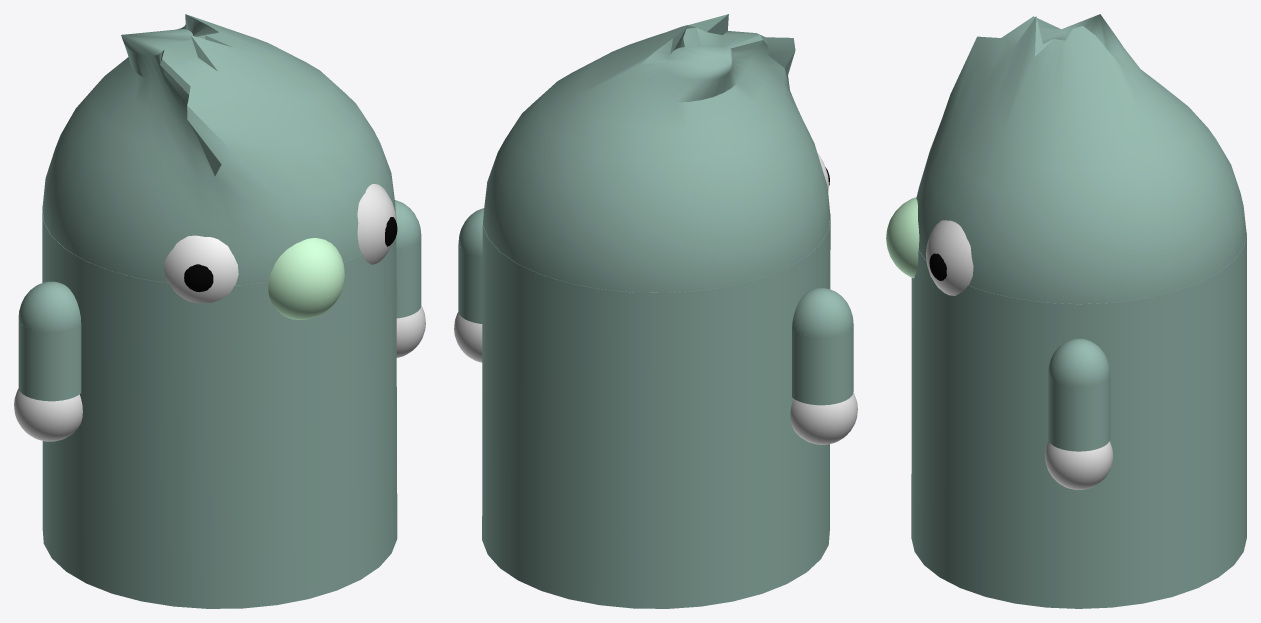
The model's file is Hynie .fbx.
3 renders of one model, left to right at view 1: azimuth 30°, elevation 25°; view 2: azimuth 150°, elevation 25°; view 3: azimuth 270°, elevation 25°, orthographic. The views are drawn at different scales.
Parts seen in each view (by area): view 1: Sphere, Sphere.004, Sphere.009, Sphere.001, Sphere.003, Sphere.006, Sphere.002, Sphere.005, Sphere.008; view 2: Sphere, Sphere.004, Sphere.003, Sphere.006, Sphere.005; view 3: Sphere, Sphere.003, Sphere.002, Sphere.005, Sphere.009.
Part boxes in pixels (x1,y1,x2,y2): Sphere: (42, 14, 397, 608); Sphere.004: (18, 281, 81, 401); Sphere.009: (268, 238, 344, 319); Sphere.001: (164, 235, 238, 303); Sphere.003: (395, 200, 421, 318); Sphere.006: (14, 388, 82, 441); Sphere.002: (357, 184, 396, 264); Sphere.005: (396, 306, 425, 357); Sphere.008: (184, 264, 213, 291); Sphere: (482, 14, 830, 608); Sphere.004: (792, 288, 853, 405); Sphere.003: (458, 208, 483, 323); Sphere.006: (790, 393, 857, 444); Sphere.005: (454, 312, 482, 362); Sphere: (911, 14, 1246, 608); Sphere.003: (1048, 338, 1110, 451); Sphere.002: (926, 220, 973, 295); Sphere.005: (1045, 441, 1113, 489); Sphere.009: (886, 197, 919, 278).
Size of the model in its own units: 261 by 328 by 215.
